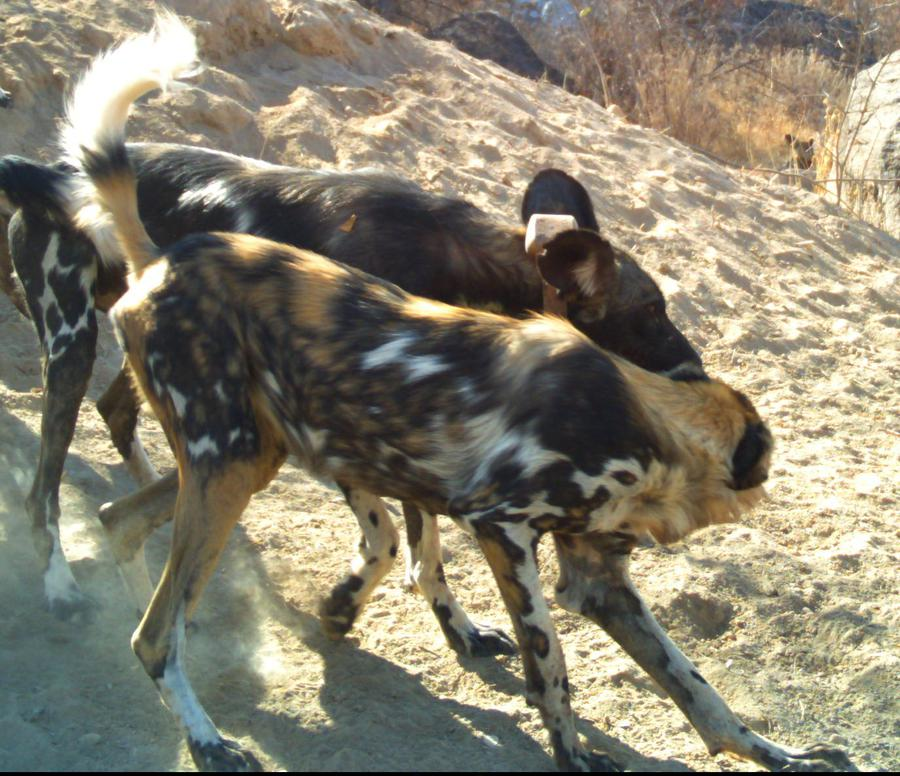wilddog: (1, 1, 900, 776)
